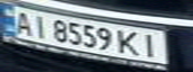5: (78, 22, 100, 50), (66, 20, 84, 46)
8: (48, 17, 69, 44)
9: (93, 25, 118, 52)
A: (9, 8, 36, 36)
I: (136, 32, 166, 58), (27, 12, 51, 38)
K: (115, 27, 145, 56)
